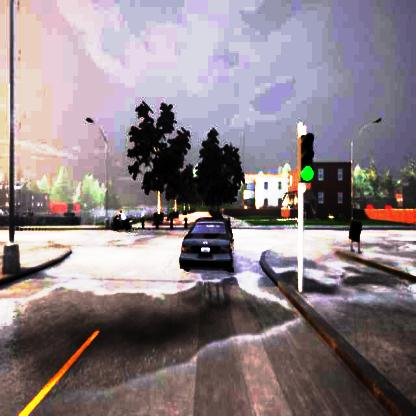motobike: (111, 209, 132, 230)
vehicle: (178, 218, 235, 270)
